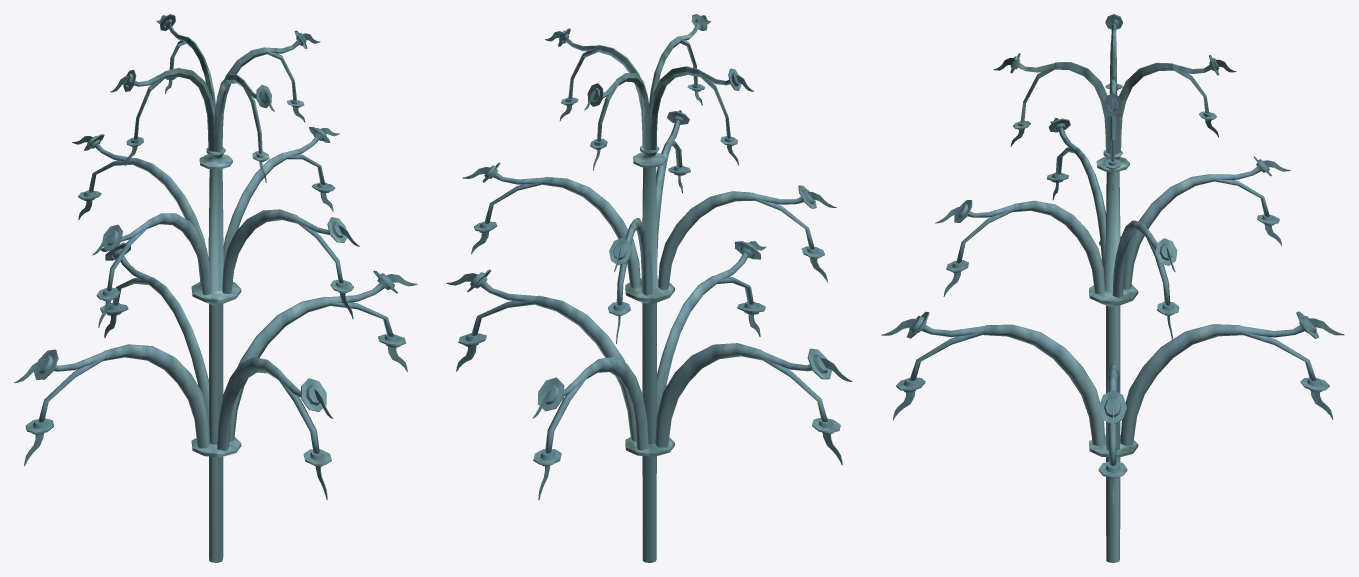
File: 青铜主干.FBX
3 views of the same model, side by side, from view 1: azimuth 30°, elevation 25°; view 2: azimuth 150°, elevation 25°; view 3: azimuth 270°, elevation 25° (orthographic).
Parts seen in each view (by area): view 1: qingtong1; view 2: qingtong1; view 3: qingtong1.
Boxes of the visible parts, <box> form: qingtong1: <box>14,14,417,562</box>; qingtong1: <box>446,14,852,562</box>; qingtong1: <box>881,14,1344,562</box>.
Bounding box in the file's own units: 27.21 × 32.81 × 27.21.
